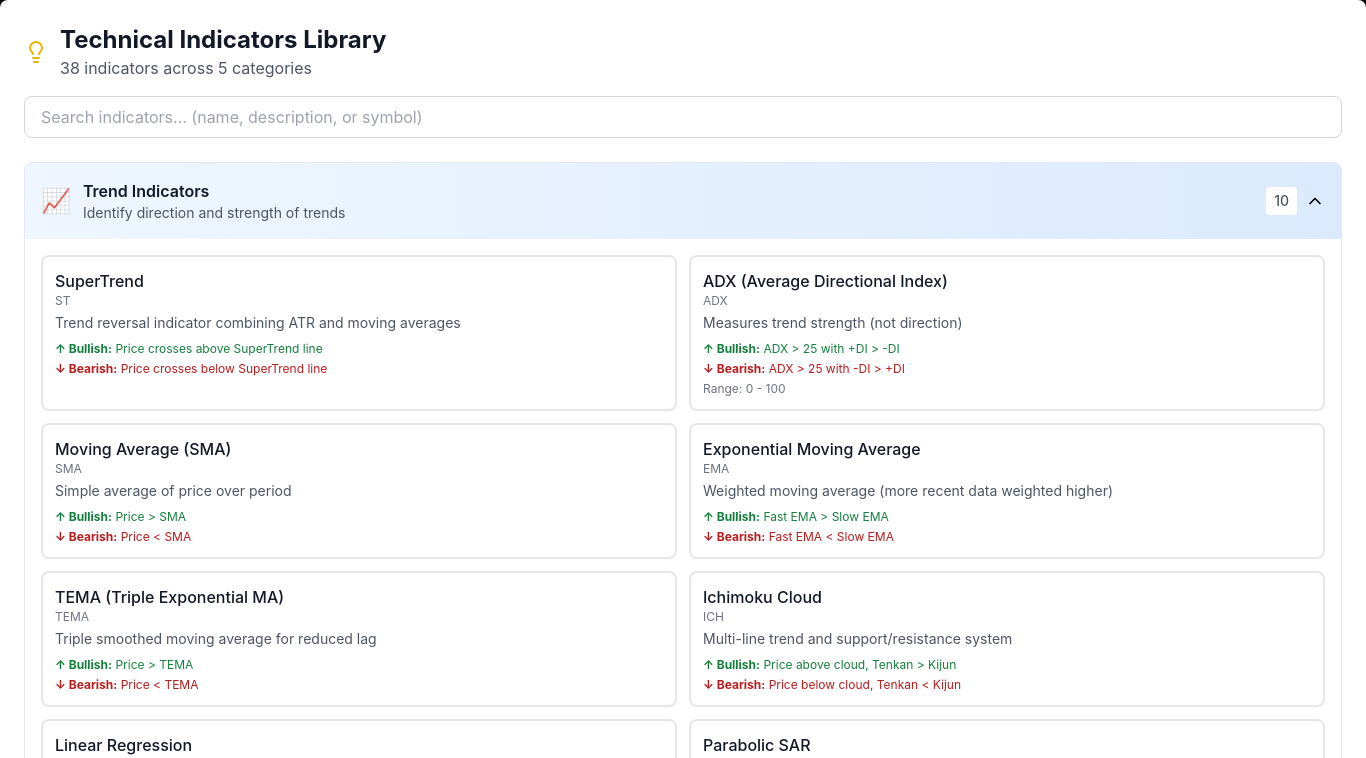
Test case: IndicatorMenu › clears search results when input is cleared
# Type search term
Step 1. Type "RSI" into the field with placeholder "Search indicators... (name, description, or symbol)" → (683, 117), box [24,96,1342,138]
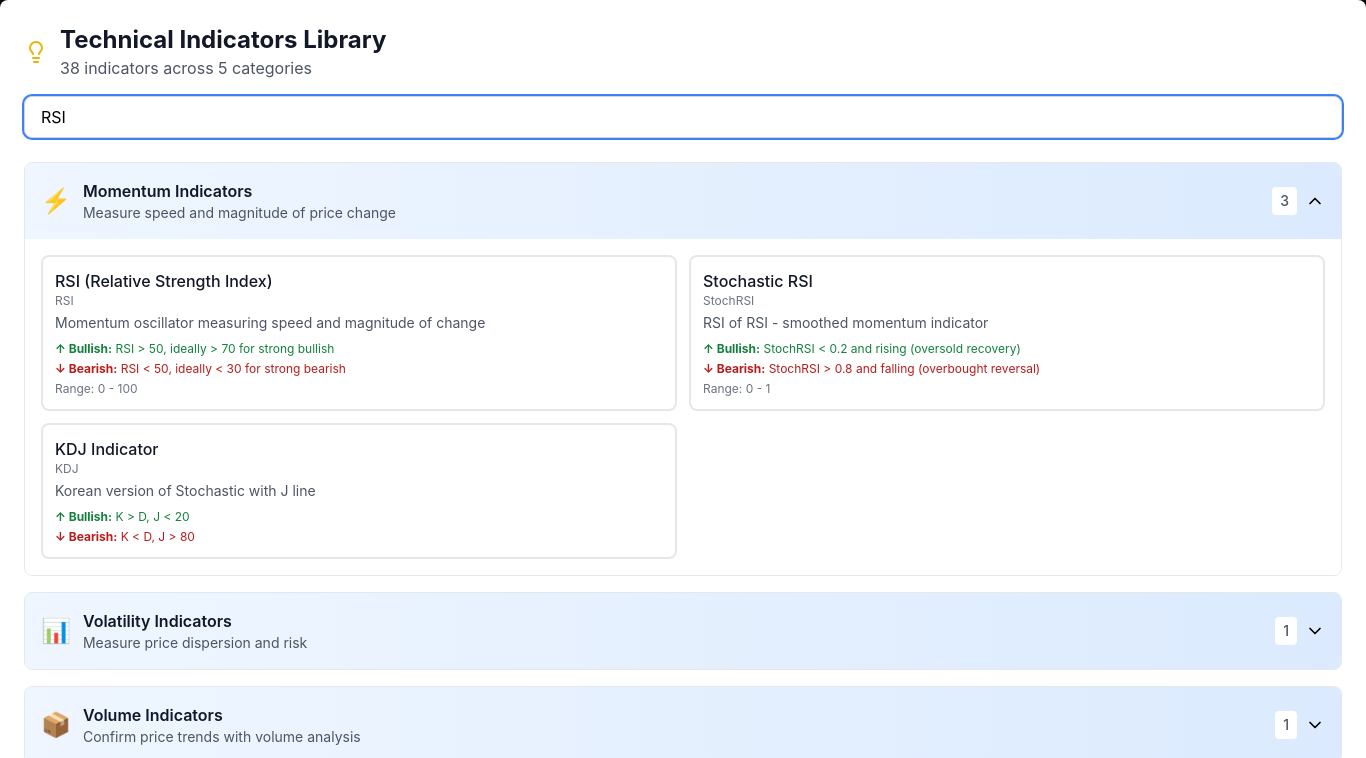
Expected: the heading "RSI (Relative Strength Index)" is shown, [55,271,273,291]
# Clear search
Step 2. Clear the field with placeholder "Search indicators... (name, description, or symbol)" → (683, 117), box [24,96,1342,138]
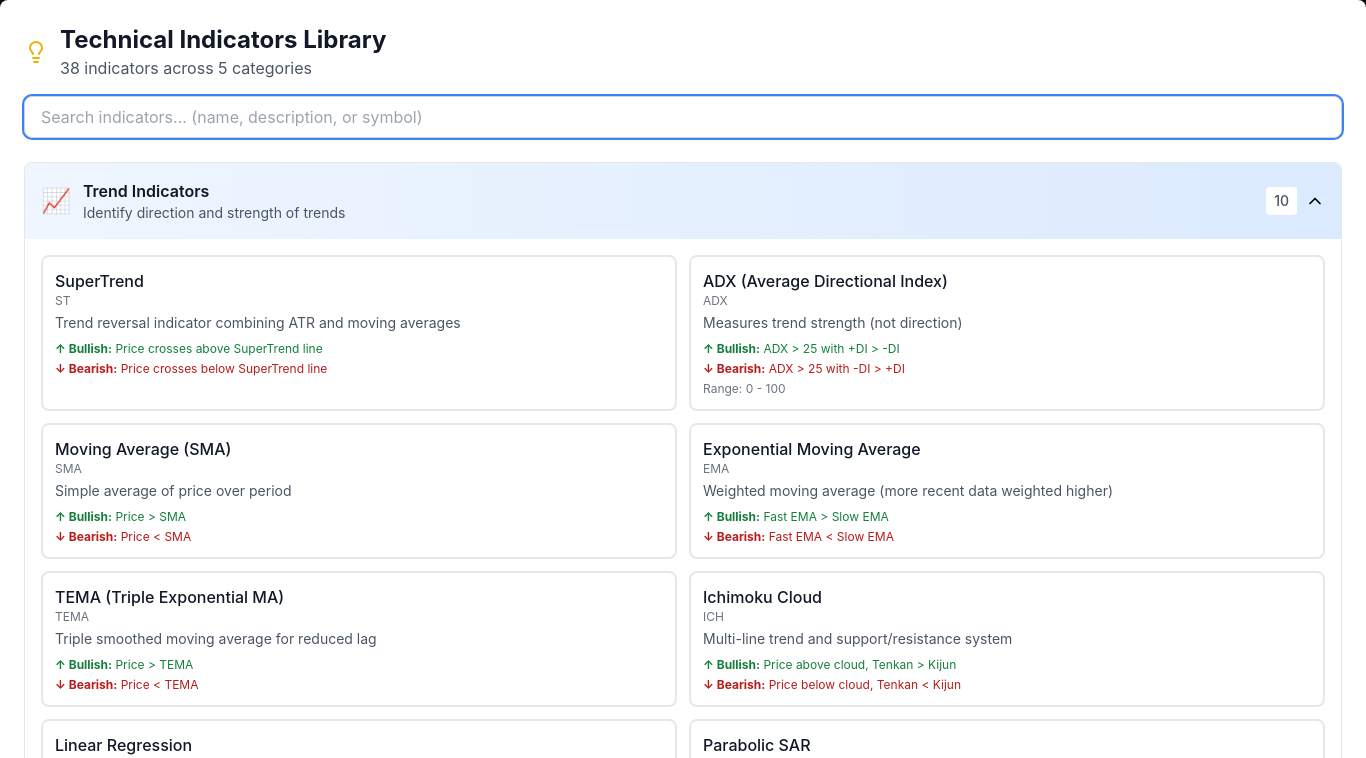
Now the heading "Trend Indicators" is shown, box [83,181,209,201]
